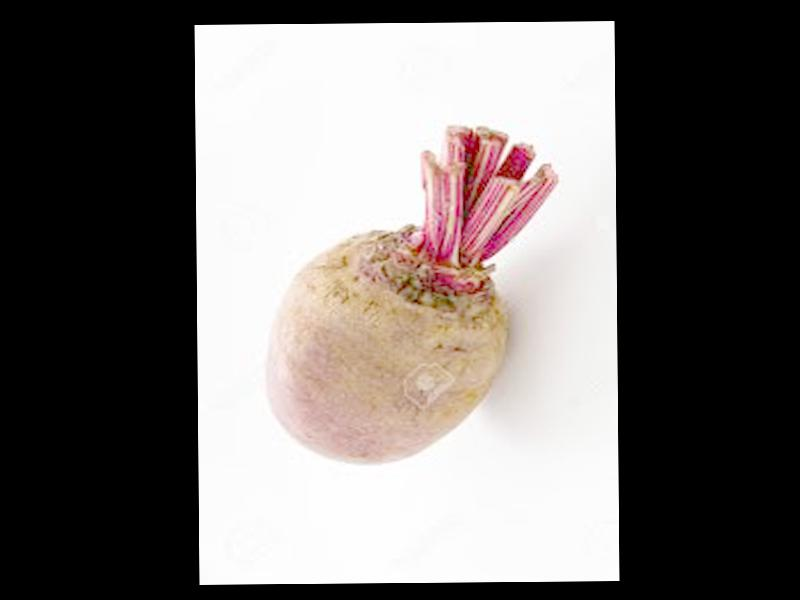Beet: (262, 125, 563, 466)
